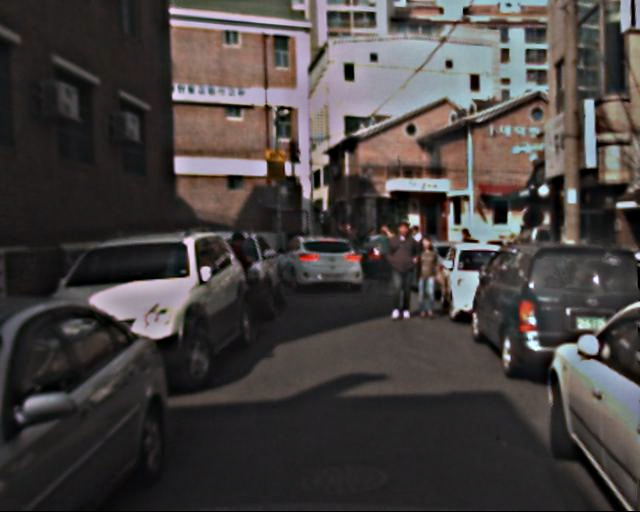person: (381, 223, 422, 324), (223, 233, 258, 318), (410, 237, 443, 317)
